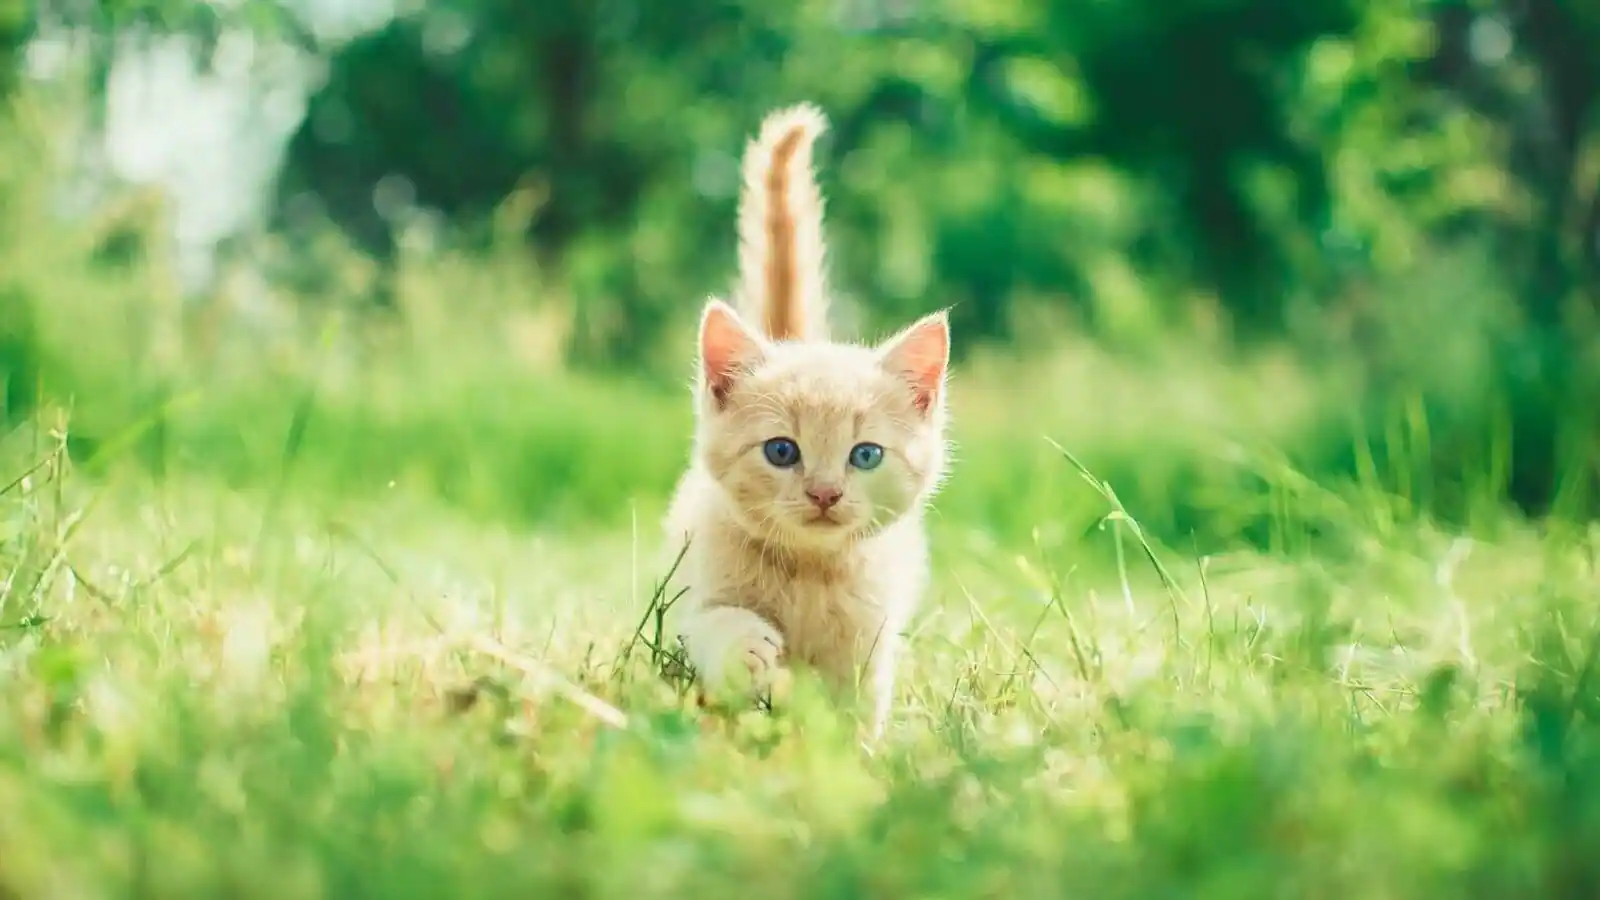cat: (666, 119, 973, 752)
